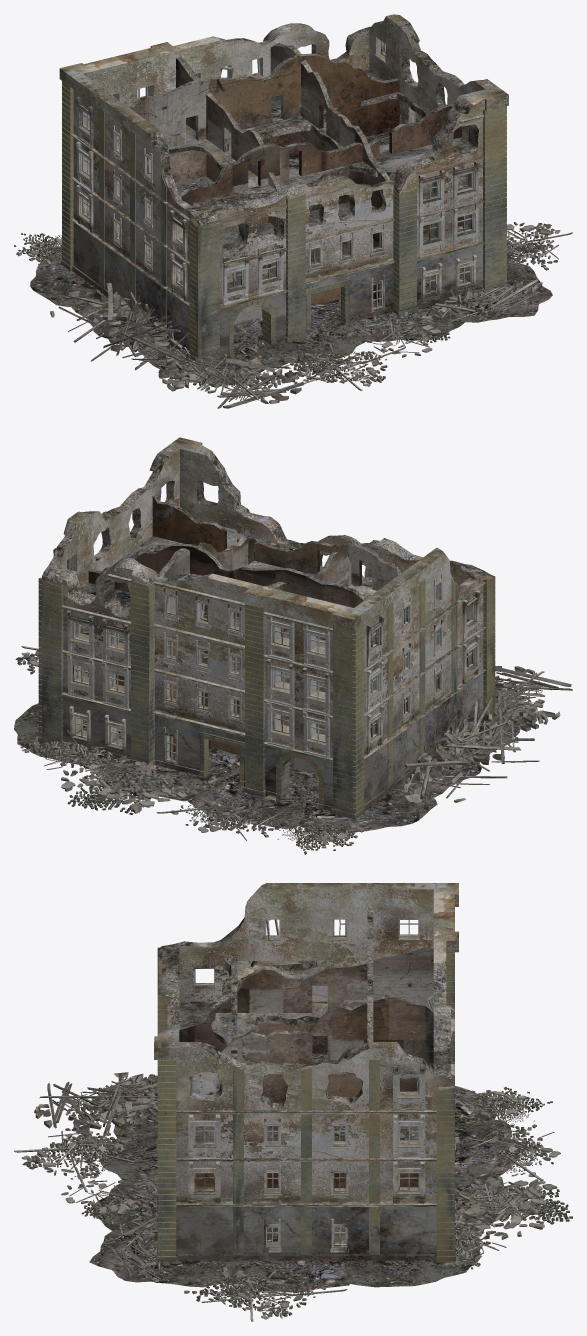
The model's file is Large Red Building.fbx.
The picture shows the model from 3 angles, top to bottom: view 1: azimuth 30°, elevation 25°; view 2: azimuth 150°, elevation 25°; view 3: azimuth 270°, elevation 25°; orthographic projection. The views are drawn at different scales.
Parts seen in each view (by area): view 1: rBLow32_wall, rBLow32_Elem, rBLow32_intB, rBLow32_Edg, rBLow32_windEl, rBLow32_wallBottom, rBLow32_intA, rBLow32_DebrC, rBLow32_DebrF, rBLow32_floor, rBLow32_Rc, rBLow32_wallElb (+15 smaller); view 2: rBLow32_wall, rBLow32_Elem, rBLow32_windEl, rBLow32_wallBottom, rBLow32_intB, rBLow32_Edg, rBLow32_DebrC, rBLow32_windows, rBLow32_Rg, rBLow32_DebrE, rBLow32_wallElb, rBLow32_Rf (+12 smaller); view 3: rBLow32_wall, rBLow32_intA, rBLow32_Elem, rBLow32_wallBottom, rBLow32_Edg, rBLow32_windEl, rBLow32_DebrF, rBLow32_DebrE, rBLow32_Ra, rBLow32_Rj, rBLow32_Ri, rBLow32_floor (+22 smaller).
Boxes of the visible parts, x1,y1,x2,y2 form: rBLow32_wall: (59, 14, 508, 307); rBLow32_Elem: (61, 39, 507, 362); rBLow32_intB: (131, 55, 461, 324); rBLow32_Edg: (129, 21, 481, 254); rBLow32_windEl: (76, 36, 479, 312); rBLow32_wallBottom: (72, 216, 504, 359); rBLow32_intA: (176, 45, 385, 302); rBLow32_DebrC: (49, 283, 202, 370); rBLow32_DebrF: (158, 345, 312, 408); rBLow32_floor: (168, 69, 467, 200); rBLow32_Rc: (234, 304, 366, 363); rBLow32_wallElb: (71, 41, 484, 307); rBLow32_wall: (42, 437, 491, 760); rBLow32_Elem: (38, 575, 495, 819); rBLow32_windEl: (53, 548, 480, 765); rBLow32_wallBottom: (40, 667, 483, 813); rBLow32_intB: (88, 496, 398, 773); rBLow32_Edg: (42, 451, 489, 618); rBLow32_DebrC: (388, 690, 539, 813); rBLow32_windows: (68, 557, 473, 762); rBLow32_Rg: (187, 767, 318, 828); rBLow32_DebrE: (61, 761, 191, 814); rBLow32_wallElb: (61, 574, 485, 760); rBLow32_Rf: (298, 786, 437, 833); rBLow32_wall: (154, 883, 458, 1203); rBLow32_intA: (179, 948, 433, 1187); rBLow32_Elem: (156, 944, 456, 1262); rBLow32_wallBottom: (157, 1093, 455, 1262); rBLow32_Edg: (158, 896, 454, 1108); rBLow32_windEl: (188, 919, 425, 1252); rBLow32_DebrF: (34, 1072, 157, 1145); rBLow32_DebrE: (455, 1172, 557, 1239); rBLow32_Ra: (89, 1228, 227, 1287); rBLow32_Rj: (222, 1227, 351, 1292); rBLow32_Ri: (337, 1230, 480, 1287); rBLow32_floor: (191, 961, 433, 1095).
Size of the model in its own units: 4265 by 1666 by 3832.
